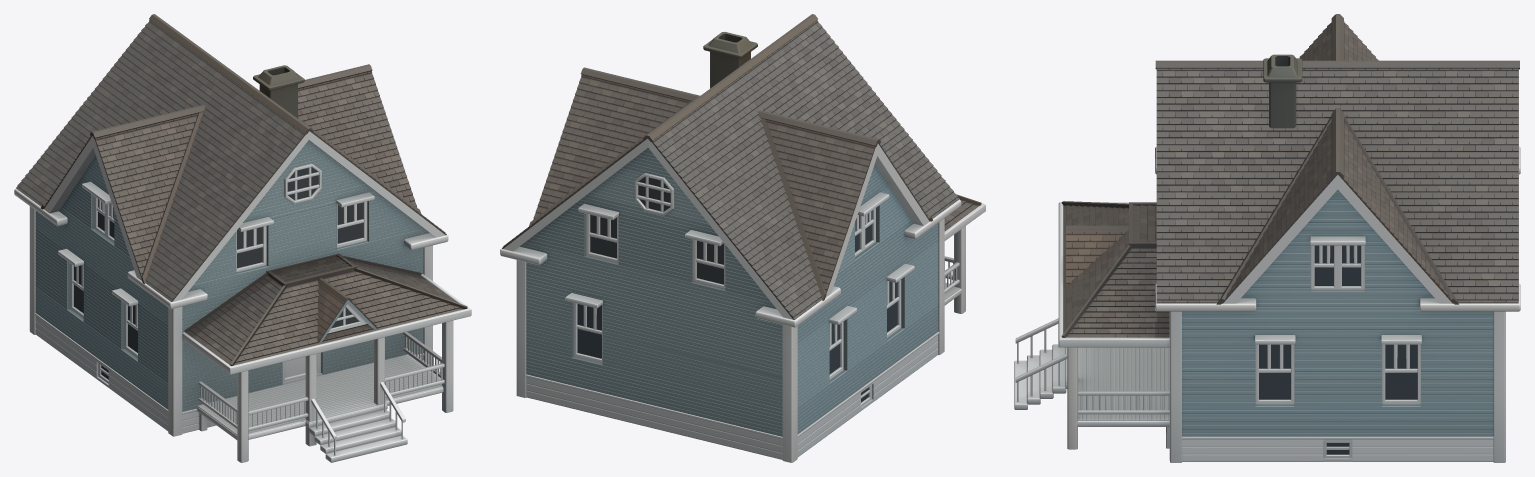
Rendered from blue_house.glb.
The picture shows the model from 3 angles, left to right: view 1: azimuth 30°, elevation 25°; view 2: azimuth 150°, elevation 25°; view 3: azimuth 270°, elevation 25°; orthographic projection. The views are drawn at different scales.
Parts seen in each view (by area): view 1: home.1_1; view 2: home.1_1; view 3: home.1_1.
Boxes of the visible parts, bbox=[...] form: home.1_1: bbox=[14, 14, 471, 462]; home.1_1: bbox=[500, 14, 985, 462]; home.1_1: bbox=[1014, 14, 1520, 462].
Bounding box in the file's own units: 0.6046 × 0.6065 × 0.8156.
Materials: 1 (1 with a texture image).
